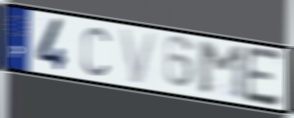4: (35, 15, 71, 74)
6: (164, 33, 197, 95)
C: (80, 25, 111, 79)
E: (244, 45, 285, 110)
M: (196, 40, 248, 103)
V: (118, 27, 159, 86)
